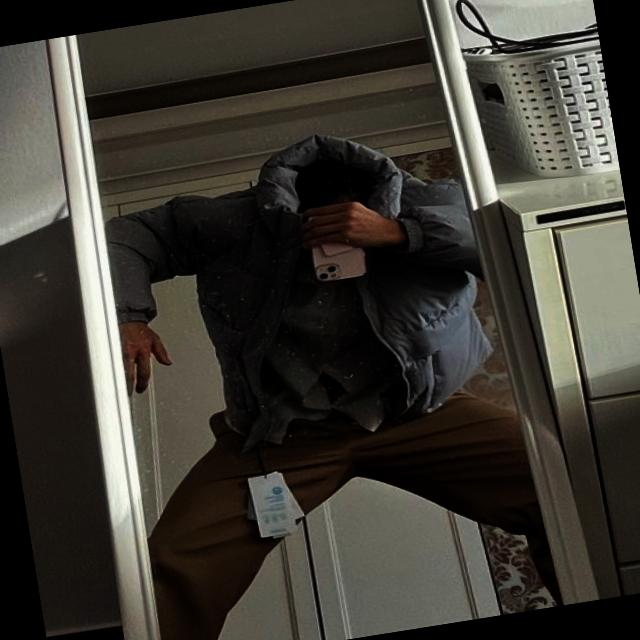cottonpants: (133, 356, 553, 640)
padding: (94, 106, 508, 460)
